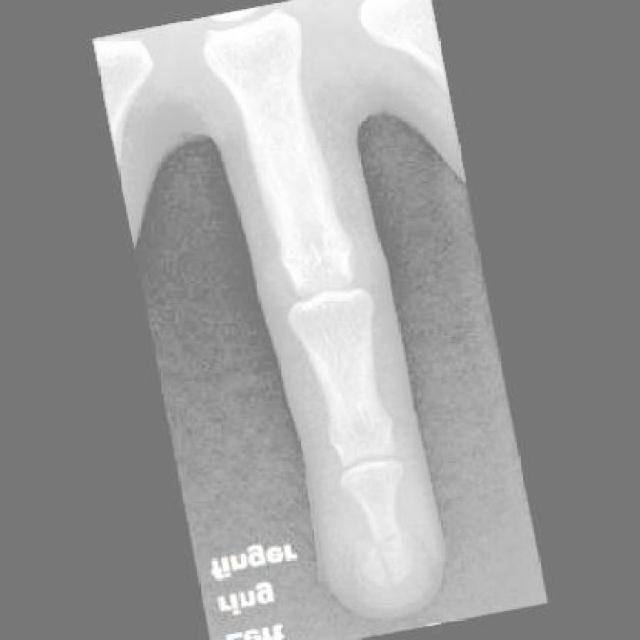Fracture: (349, 517, 422, 591)
